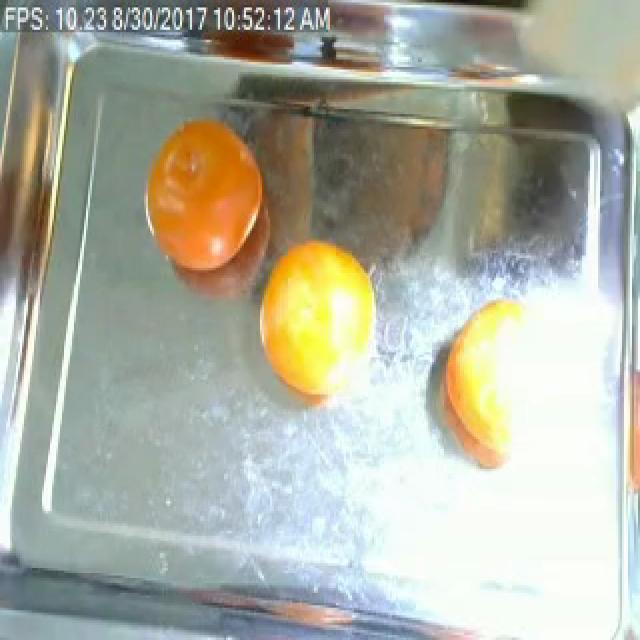Fruit: (298, 99, 462, 290), (246, 223, 386, 424), (132, 102, 276, 285)
